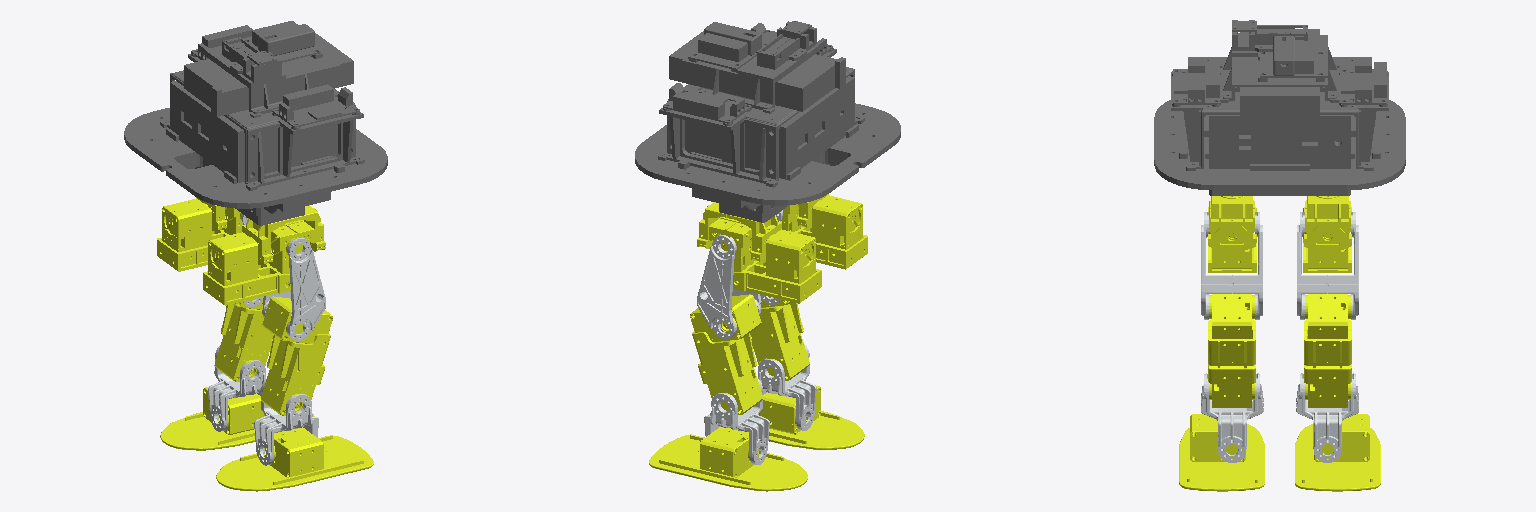
The robot description file, URDF, robot "exhx5_w_b_16":
<?xml version="1.0" encoding="utf-8"?>
<!-- This URDF was automatically created by SolidWorks to URDF Exporter! Originally created by [author] ([email redacted]) 
     Commit Version: 1.5.1-0-g916b5db  Build Version: 1.5.7152.31018
     For more information, please see http://wiki.ros.org/sw_urdf_exporter -->
<robot
  name="exhx5_w_b_16">
  <link
    name="body_link">
    <inertial>
      <origin
        xyz="0.00043545 0.00025536 0.10071"
        rpy="0 0 0" />
      <mass
        value="1.8238" />
      <inertia
        ixx="0.0025905"
        ixy="-5.6852E-06"
        ixz="-1.3106E-05"
        iyy="0.0024595"
        iyz="-1.261E-06"
        izz="0.0046407" />
    </inertial>
    <visual>
      <origin
        xyz="0 0 0"
        rpy="0 0 0" />
      <geometry>
        <mesh
          filename="../meshes/body_link.STL" />
      </geometry>
      <material
        name="">
        <color
          rgba="0.49804 0.49804 0.49804 1" />
      </material>
    </visual>
    <collision>
      <origin
        xyz="0 0 0"
        rpy="0 0 0" />
      <geometry>
        <mesh
          filename="../meshes/body_link.STL" />
      </geometry>
    </collision>
  </link>

  <link
    name="imu_link">
    <inertial>
      <origin
        xyz="-0.008387 1.336E-17 -0.0069463"
        rpy="0 0 0" />
      <mass
        value="0.0062931" />
      <inertia
        ixx="3.2242E-07"
        ixy="3.3527E-22"
        ixz="-6.9193E-08"
        iyy="9.2229E-07"
        iyz="-8.0392E-22"
        izz="1.1018E-06" />
    </inertial>
    <visual>
      <origin
        xyz="0 0 0"
        rpy="0 0 0" />
      <geometry>
        <mesh
          filename="../meshes/imu_link.STL" />
      </geometry>
      <material
        name="">
        <color
          rgba="0.79216 0.81961 0.93333 1" />
      </material>
    </visual>
    <collision>
      <origin
        xyz="0 0 0"
        rpy="0 0 0" />
      <geometry>
        <mesh
          filename="../meshes/imu_link.STL" />
      </geometry>
    </collision>
  </link>
  <joint
    name="imu"
    type="fixed">
    <origin
      xyz="0 0 0.0492"
      rpy="0 0 0" />
    <parent
      link="body_link" />
    <child
      link="imu_link" />
    <axis
      xyz="0 0 0" />
    <limit
      lower="-3.14"
      upper="3.14"
      effort="4"
      velocity="4" />
  </joint>
  <link
    name="l_hip_g_link">
    <inertial>
      <origin
        xyz="-0.0043797 -8.6604E-08 0.011813"
        rpy="0 0 0" />
      <mass
        value="0.061008" />
      <inertia
        ixx="1.167E-05"
        ixy="7.1767E-11"
        ixz="9.1442E-09"
        iyy="2.2342E-05"
        iyz="2.5177E-11"
        izz="2.4892E-05" />
    </inertial>
    <visual>
      <origin
        xyz="0 0 0"
        rpy="0 0 0" />
      <geometry>
        <mesh
          filename="../meshes/l_hip_g_link.STL" />
      </geometry>
      <material
        name="">
        <color
          rgba="0.9451 1 0.18431 1" />
      </material>
    </visual>
    <collision>
      <origin
        xyz="0 0 0"
        rpy="0 0 0" />
      <geometry>
        <mesh
          filename="../meshes/l_hip_g_link.STL" />
      </geometry>
    </collision>
  </link>
  <joint
    name="l_hip_g"
    type="fixed">
    <origin
      xyz=".003 0.04 0"
      rpy="0 0 0" />
    <parent
      link="body_link" />
    <child
      link="l_hip_g_link" />
    <axis
      xyz="0 0 0" />
  </joint>
  <link
    name="l_hip_roll_link">
    <inertial>
      <origin
        xyz="0.013831 0.00033457 0.025453"
        rpy="0 0 0" />
      <mass
        value="0.2969" />
      <inertia
        ixx="7.8136E-05"
        ixy="7.265E-07"
        ixz="-6.9809E-08"
        iyy="9.2183E-05"
        iyz="-5.6881E-11"
        izz="7.1034E-05" />
    </inertial>
    <visual>
      <origin
        xyz="0 0 0"
        rpy="0 0 0" />
      <geometry>
        <mesh
          filename="../meshes/l_hip_roll_link.STL" />
      </geometry>
      <material
        name="">
        <color
          rgba="0.9451 1 0.18431 1" />
      </material>
    </visual>
    <collision>
      <origin
        xyz="0 0 0"
        rpy="0 0 0" />
      <geometry>
        <mesh
          filename="../meshes/l_hip_roll_link.STL" />
      </geometry>
    </collision>
  </link>
  <joint
    name="l_hip_roll"
    type="revolute">
    <origin
      xyz="0 0 0"
      rpy="3.1416 1.5708 0" />
    <parent
      link="l_hip_g_link" />
    <child
      link="l_hip_roll_link" />
    <axis
      xyz="0 0 1" />
    <limit
      lower="-3.14"
      upper="3.14"
      effort="4"
      velocity="4" />
  </joint>
  <link
    name="l_hip_pitch_link">
    <inertial>
      <origin
        xyz="0.041225 -0.007321 -5.0713E-08"
        rpy="0 0 0" />
      <mass
        value="0.051592" />
      <inertia
        ixx="2.7959E-05"
        ixy="2.0752E-06"
        ixz="-8.0934E-11"
        iyy="4.8156E-05"
        iyz="3.6317E-11"
        izz="2.9604E-05" />
    </inertial>
    <visual>
      <origin
        xyz="0 0 0"
        rpy="0 0 0" />
      <geometry>
        <mesh
          filename="../meshes/l_hip_pitch_link.STL" />
      </geometry>
      <material
        name="">
        <color
          rgba="0.89804 0.91765 0.92941 1" />
      </material>
    </visual>
    <collision>
      <origin
        xyz="0 0 0"
        rpy="0 0 0" />
      <geometry>
        <mesh
          filename="../meshes/l_hip_pitch_link.STL" />
      </geometry>
    </collision>
  </link>
  <joint
    name="l_hip_pitch"
    type="revolute">
    <origin
      xyz="0 0 0"
      rpy="1.5708 0 0" />
    <parent
      link="l_hip_roll_link" />
    <child
      link="l_hip_pitch_link" />
    <axis
      xyz="0 0 1" />
    <limit
      lower="-3.14"
      upper="3.14"
      effort="4"
      velocity="4" />
  </joint>
  <link
    name="l_knee_link">
    <inertial>
      <origin
        xyz="0.033756 -0.0084189 -6.6115E-09"
        rpy="0 0 0" />
      <mass
        value="0.28878" />
      <inertia
        ixx="6.6724E-05"
        ixy="7.5004E-07"
        ixz="-8.4578E-07"
        iyy="6.5699E-05"
        iyz="4.1085E-07"
        izz="7.0381E-05" />
    </inertial>
    <visual>
      <origin
        xyz="0 0 0"
        rpy="0 0 0" />
      <geometry>
        <mesh
          filename="../meshes/l_knee_link.STL" />
      </geometry>
      <material
        name="">
        <color
          rgba="0.9451 1 0.18431 1" />
      </material>
    </visual>
    <collision>
      <origin
        xyz="0 0 0"
        rpy="0 0 0" />
      <geometry>
        <mesh
          filename="../meshes/l_knee_link.STL" />
      </geometry>
    </collision>
  </link>
  <joint
    name="l_knee"
    type="revolute">
    <origin
      xyz="0.075954 0 0"
      rpy="0 0 0" />
    <parent
      link="l_hip_pitch_link" />
    <child
      link="l_knee_link" />
    <axis
      xyz="0 0 1" />
    <limit
      lower="-3.14"
      upper="3.14"
      effort="4"
      velocity="4" />
  </joint>
  <link
    name="l_ank_pitch_link">
    <inertial>
      <origin
        xyz="0.022786 -7.3909E-09 -7.1981E-06"
        rpy="0 0 0" />
      <mass
        value="0.044772" />
      <inertia
        ixx="1.777E-05"
        ixy="8.555E-14"
        ixz="-3.3713E-09"
        iyy="1.7119E-05"
        iyz="1.7593E-11"
        izz="1.8661E-05" />
    </inertial>
    <visual>
      <origin
        xyz="0 0 0"
        rpy="0 0 0" />
      <geometry>
        <mesh
          filename="../meshes/l_ank_pitch_link.STL" />
      </geometry>
      <material
        name="">
        <color
          rgba="0.89804 0.91765 0.92941 1" />
      </material>
    </visual>
    <collision>
      <origin
        xyz="0 0 0"
        rpy="0 0 0" />
      <geometry>
        <mesh
          filename="../meshes/l_ank_pitch_link.STL" />
      </geometry>
    </collision>
  </link>
  <joint
    name="l_ank_pitch"
    type="revolute">
    <origin
      xyz="0.074602 0 0"
      rpy="3.1416 0 0" />
    <parent
      link="l_knee_link" />
    <child
      link="l_ank_pitch_link" />
    <axis
      xyz="0 0 1" />
    <limit
      lower="-3.14"
      upper="3.14"
      effort="4"
      velocity="4" />
  </joint>
  <link
    name="l_ank_roll_link">
    <inertial>
      <origin
        xyz="0.0047069 0.010728 0.0015299"
        rpy="0 0 0" />
      <mass
        value="0.16774" />
      <inertia
        ixx="0.00012039"
        ixy="-3.7428E-09"
        ixz="4.4069E-08"
        iyy="8.7735E-05"
        iyz="7.0469E-07"
        izz="4.7866E-05" />
    </inertial>
    <visual>
      <origin
        xyz="0 0 0"
        rpy="0 0 0" />
      <geometry>
        <mesh
          filename="../meshes/l_ank_roll_link.STL" />
      </geometry>
      <material
        name="">
        <color
          rgba="0.9451 1 0.18431 1" />
      </material>
    </visual>
    <collision>
      <origin
        xyz="0 0 0"
        rpy="0 0 0" />
      <geometry>
        <mesh
          filename="../meshes/l_ank_roll_link.STL" />
      </geometry>
    </collision>
  </link>
  <joint
    name="l_ank_roll"
    type="revolute">
    <origin
      xyz="0.0465 0 0"
      rpy="-1.5708 0 0" />
    <parent
      link="l_ank_pitch_link" />
    <child
      link="l_ank_roll_link" />
    <axis
      xyz="0 0 1" />
    <limit
      lower="-3.14"
      upper="3.14"
      effort="4"
      velocity="4" />
  </joint>
  <link
    name="r_hip_g_link">
    <inertial>
      <origin
        xyz="-0.0043797 -8.6604E-08 0.011813"
        rpy="0 0 0" />
      <mass
        value="0.061008" />
      <inertia
        ixx="1.167E-05"
        ixy="7.1767E-11"
        ixz="9.1442E-09"
        iyy="2.2342E-05"
        iyz="2.5177E-11"
        izz="2.4892E-05" />
    </inertial>
    <visual>
      <origin
        xyz="0 0 0"
        rpy="0 0 0" />
      <geometry>
        <mesh
          filename="../meshes/r_hip_g_link.STL" />
      </geometry>
      <material
        name="">
        <color
          rgba="0.9451 1 0.18431 1" />
      </material>
    </visual>
    <collision>
      <origin
        xyz="0 0 0"
        rpy="0 0 0" />
      <geometry>
        <mesh
          filename="../meshes/r_hip_g_link.STL" />
      </geometry>
    </collision>
  </link>
  <joint
    name="r_hip_g"
    type="fixed">
    <origin
      xyz=".003 -.04 0"
      rpy="0 0 0" />
    <parent
      link="body_link" />
    <child
      link="r_hip_g_link" />
    <axis
      xyz="0 0 0" />
  </joint>
  <link
    name="r_hip_roll_link">
    <inertial>
      <origin
        xyz="0.013831 0.00033457 0.025453"
        rpy="0 0 0" />
      <mass
        value="0.2969" />
      <inertia
        ixx="7.8136E-05"
        ixy="7.265E-07"
        ixz="-6.9809E-08"
        iyy="9.2183E-05"
        iyz="-5.6881E-11"
        izz="7.1034E-05" />
    </inertial>
    <visual>
      <origin
        xyz="0 0 0"
        rpy="0 0 0" />
      <geometry>
        <mesh
          filename="../meshes/r_hip_roll_link.STL" />
      </geometry>
      <material
        name="">
        <color
          rgba="0.9451 1 0.18431 1" />
      </material>
    </visual>
    <collision>
      <origin
        xyz="0 0 0"
        rpy="0 0 0" />
      <geometry>
        <mesh
          filename="../meshes/r_hip_roll_link.STL" />
      </geometry>
    </collision>
  </link>
  <joint
    name="r_hip_roll"
    type="revolute">
    <origin
      xyz="0 0 0"
      rpy="3.1416 1.5708 0" />
    <parent
      link="r_hip_g_link" />
    <child
      link="r_hip_roll_link" />
    <axis
      xyz="0 0 1" />
    <limit
      lower="-3.14"
      upper="3.14"
      effort="4"
      velocity="4" />
  </joint>
  <link
    name="r_hip_pitch_link">
    <inertial>
      <origin
        xyz="0.041225 0.007321 5.0713E-08"
        rpy="0 0 0" />
      <mass
        value="0.051592" />
      <inertia
        ixx="2.7959E-05"
        ixy="-2.0752E-06"
        ixz="8.0934E-11"
        iyy="4.8156E-05"
        iyz="3.6317E-11"
        izz="2.9604E-05" />
    </inertial>
    <visual>
      <origin
        xyz="0 0 0"
        rpy="0 0 0" />
      <geometry>
        <mesh
          filename="../meshes/r_hip_pitch_link.STL" />
      </geometry>
      <material
        name="">
        <color
          rgba="0.89804 0.91765 0.92941 1" />
      </material>
    </visual>
    <collision>
      <origin
        xyz="0 0 0"
        rpy="0 0 0" />
      <geometry>
        <mesh
          filename="../meshes/r_hip_pitch_link.STL" />
      </geometry>
    </collision>
  </link>
  <joint
    name="r_hip_pitch"
    type="revolute">
    <origin
      xyz="0 0 0"
      rpy="-1.5708 0 0" />
    <parent
      link="r_hip_roll_link" />
    <child
      link="r_hip_pitch_link" />
    <axis
      xyz="0 0 1" />
    <limit
      lower="-3.14"
      upper="3.14"
      effort="4"
      velocity="4" />
  </joint>
  <link
    name="r_knee_link">
    <inertial>
      <origin
        xyz="0.033757 0.0084176 6.6115E-09"
        rpy="0 0 0" />
      <mass
        value="0.28878" />
      <inertia
        ixx="6.6724E-05"
        ixy="-7.5008E-07"
        ixz="8.458E-07"
        iyy="6.5699E-05"
        iyz="4.1081E-07"
        izz="7.0381E-05" />
    </inertial>
    <visual>
      <origin
        xyz="0 0 0"
        rpy="0 0 0" />
      <geometry>
        <mesh
          filename="../meshes/r_knee_link.STL" />
      </geometry>
      <material
        name="">
        <color
          rgba="0.9451 1 0.18431 1" />
      </material>
    </visual>
    <collision>
      <origin
        xyz="0 0 0"
        rpy="0 0 0" />
      <geometry>
        <mesh
          filename="../meshes/r_knee_link.STL" />
      </geometry>
    </collision>
  </link>
  <joint
    name="r_knee"
    type="revolute">
    <origin
      xyz="0.075954 0 0"
      rpy="0 0 0" />
    <parent
      link="r_hip_pitch_link" />
    <child
      link="r_knee_link" />
    <axis
      xyz="0 0 1" />
    <limit
      lower="-3.14"
      upper="3.14"
      effort="4"
      velocity="4" />
  </joint>
  <link
    name="r_ank_pitch_link">
    <inertial>
      <origin
        xyz="0.025786 -7.3887E-09 -7.1981E-06"
        rpy="0 0 0" />
      <mass
        value="0.044772" />
      <inertia
        ixx="1.777E-05"
        ixy="8.5434E-14"
        ixz="-3.3713E-09"
        iyy="1.7119E-05"
        iyz="1.7592E-11"
        izz="1.8661E-05" />
    </inertial>
    <visual>
      <origin
        xyz="0 0 0"
        rpy="0 0 0" />
      <geometry>
        <mesh
          filename="../meshes/r_ank_pitch_link.STL" />
      </geometry>
      <material
        name="">
        <color
          rgba="0.89804 0.91765 0.92941 1" />
      </material>
    </visual>
    <collision>
      <origin
        xyz="0 0 0"
        rpy="0 0 0" />
      <geometry>
        <mesh
          filename="../meshes/r_ank_pitch_link.STL" />
      </geometry>
    </collision>
  </link>
  <joint
    name="r_ank_pitch"
    type="revolute">
    <origin
      xyz="0.071602 0 0"
      rpy="3.1416 0 0" />
    <parent
      link="r_knee_link" />
    <child
      link="r_ank_pitch_link" />
    <axis
      xyz="0 0 1" />
    <limit
      lower="-3.14"
      upper="3.14"
      effort="4"
      velocity="4" />
  </joint>
  <link
    name="r_ank_roll_link">
    <inertial>
      <origin
        xyz="0.0077069 -0.010728 0.0015299"
        rpy="0 0 0" />
      <mass
        value="0.16774" />
      <inertia
        ixx="0.00012039"
        ixy="3.743E-09"
        ixz="4.407E-08"
        iyy="8.7735E-05"
        iyz="-7.0467E-07"
        izz="4.7866E-05" />
    </inertial>
    <visual>
      <origin
        xyz="0 0 0"
        rpy="0 0 0" />
      <geometry>
        <mesh
          filename="../meshes/r_ank_roll_link.STL" />
      </geometry>
      <material
        name="">
        <color
          rgba="0.9451 1 0.18431 1" />
      </material>
    </visual>
    <collision>
      <origin
        xyz="0 0 0"
        rpy="0 0 0" />
      <geometry>
        <mesh
          filename="../meshes/r_ank_roll_link.STL" />
      </geometry>
    </collision>
  </link>
  <joint
    name="r_ank_roll"
    type="revolute">
    <origin
      xyz="0.0465 0 0"
      rpy="1.5708 0 0" />
    <parent
      link="r_ank_pitch_link" />
    <child
      link="r_ank_roll_link" />
    <axis
      xyz="0 0 1" />
    <limit
      lower="-3.14"
      upper="3.14"
      effort="4"
      velocity="4" />
  </joint>
  <transmission name="r_hip_roll_tran">
    <type>transmission_interface/SimpleTransmission</type>
    <joint name="r_hip_roll">
      <hardwareInterface>hardware_interface/EffortJointInterface</hardwareInterface>
    </joint>
    <actuator name="r_hip_roll_motor">
      <hardwareInterface>hardware_interface/EffortJointInterface</hardwareInterface>
      <mechanicalReduction>1</mechanicalReduction>
    </actuator>
  </transmission>
  <transmission name="r_hip_pitch_tran">
    <type>transmission_interface/SimpleTransmission</type>
    <joint name="r_hip_pitch">
      <hardwareInterface>hardware_interface/EffortJointInterface</hardwareInterface>
    </joint>
    <actuator name="r_hip_pitch_motor">
      <hardwareInterface>hardware_interface/EffortJointInterface</hardwareInterface>
      <mechanicalReduction>1</mechanicalReduction>
    </actuator>
  </transmission>
  <transmission name="r_knee_tran">
    <type>transmission_interface/SimpleTransmission</type>
    <joint name="r_knee">
      <hardwareInterface>hardware_interface/EffortJointInterface</hardwareInterface>
    </joint>
    <actuator name="r_knee_motor">
      <hardwareInterface>hardware_interface/EffortJointInterface</hardwareInterface>
      <mechanicalReduction>1</mechanicalReduction>
    </actuator>
  </transmission>
  <transmission name="r_ank_pitch_tran">
    <type>transmission_interface/SimpleTransmission</type>
    <joint name="r_ank_pitch">
      <hardwareInterface>hardware_interface/EffortJointInterface</hardwareInterface>
    </joint>
    <actuator name="r_ank_pitch_motor">
      <hardwareInterface>hardware_interface/EffortJointInterface</hardwareInterface>
      <mechanicalReduction>1</mechanicalReduction>
    </actuator>
  </transmission>
  <transmission name="r_ank_roll_tran">
    <type>transmission_interface/SimpleTransmission</type>
    <joint name="r_ank_roll">
      <hardwareInterface>hardware_interface/EffortJointInterface</hardwareInterface>
    </joint>
    <actuator name="r_ank_roll_motor">
      <hardwareInterface>hardware_interface/EffortJointInterface</hardwareInterface>
      <mechanicalReduction>1</mechanicalReduction>
    </actuator>
  </transmission>
  <transmission name="l_hip_roll_tran">
    <type>transmission_interface/SimpleTransmission</type>
    <joint name="l_hip_roll">
      <hardwareInterface>hardware_interface/EffortJointInterface</hardwareInterface>
    </joint>
    <actuator name="l_hip_roll_motor">
      <hardwareInterface>hardware_interface/EffortJointInterface</hardwareInterface>
      <mechanicalReduction>1</mechanicalReduction>
    </actuator>
  </transmission>
  <transmission name="l_hip_pitch_tran">
    <type>transmission_interface/SimpleTransmission</type>
    <joint name="l_hip_pitch">
      <hardwareInterface>hardware_interface/EffortJointInterface</hardwareInterface>
    </joint>
    <actuator name="l_hip_pitch_motor">
      <hardwareInterface>hardware_interface/EffortJointInterface</hardwareInterface>
      <mechanicalReduction>1</mechanicalReduction>
    </actuator>
  </transmission>
  <transmission name="l_knee_tran">
    <type>transmission_interface/SimpleTransmission</type>
    <joint name="l_knee">
      <hardwareInterface>hardware_interface/EffortJointInterface</hardwareInterface>
    </joint>
    <actuator name="l_knee_motor">
      <hardwareInterface>hardware_interface/EffortJointInterface</hardwareInterface>
      <mechanicalReduction>1</mechanicalReduction>
    </actuator>
  </transmission>
  <transmission name="l_ank_pitch_tran">
    <type>transmission_interface/SimpleTransmission</type>
    <joint name="l_ank_pitch">
      <hardwareInterface>hardware_interface/EffortJointInterface</hardwareInterface>
    </joint>
    <actuator name="l_ank_pitch_motor">
      <hardwareInterface>hardware_interface/EffortJointInterface</hardwareInterface>
      <mechanicalReduction>1</mechanicalReduction>
    </actuator>
  </transmission>
  <transmission name="l_ank_roll_tran">
    <type>transmission_interface/SimpleTransmission</type>
    <joint name="l_ank_roll">
      <hardwareInterface>hardware_interface/EffortJointInterface</hardwareInterface>
    </joint>
    <actuator name="l_ank_roll_motor">
      <hardwareInterface>hardware_interface/EffortJointInterface</hardwareInterface>
      <mechanicalReduction>1</mechanicalReduction>
    </actuator>
  </transmission>
</robot>

--- What the picture shows (computed from the rendered views, not written in the file) ---
Views: 3 orthographic renders of the robot side by side, from view 1: azimuth 30°, elevation 25°; view 2: azimuth 150°, elevation 25°; view 3: azimuth 270°, elevation 25°.
Robot: exhx5_w_b_16 — 14 links, 13 joints (10 revolute, 3 fixed); root link body_link; default pose: every joint at zero.
Visible links, largest first — view 1: body_link, r_ank_roll_link, r_hip_roll_link, r_knee_link, l_hip_roll_link, l_ank_roll_link, l_knee_link, r_hip_pitch_link, r_ank_pitch_link, l_ank_pitch_link, r_hip_g_link; view 2: body_link, l_ank_roll_link, l_hip_roll_link, l_knee_link, r_hip_roll_link, r_ank_roll_link, r_knee_link, l_hip_pitch_link, l_ank_pitch_link, r_ank_pitch_link, l_hip_g_link; view 3: body_link, l_knee_link, r_knee_link, l_ank_roll_link, r_ank_roll_link, l_hip_pitch_link, r_hip_pitch_link, l_hip_g_link, r_hip_g_link, r_ank_pitch_link, l_ank_pitch_link, l_hip_roll_link (+1 smaller).
Link boxes in pixels (x1,y1,x2,y2): body_link: (124, 21, 387, 225); r_ank_roll_link: (216, 427, 373, 491); r_hip_roll_link: (203, 220, 314, 305); r_knee_link: (261, 296, 332, 415); l_hip_roll_link: (157, 198, 242, 271); l_ank_roll_link: (160, 387, 314, 450); l_knee_link: (214, 298, 273, 381); r_hip_pitch_link: (262, 238, 325, 340); r_ank_pitch_link: (254, 380, 318, 465); l_ank_pitch_link: (208, 346, 265, 431); r_hip_g_link: (242, 205, 325, 264); body_link: (635, 21, 900, 222); l_ank_roll_link: (649, 427, 807, 491); l_hip_roll_link: (709, 217, 821, 303); l_knee_link: (690, 294, 762, 414); r_hip_roll_link: (781, 195, 867, 269); r_ank_roll_link: (708, 385, 864, 449); r_knee_link: (750, 296, 809, 380); l_hip_pitch_link: (697, 234, 761, 338); l_ank_pitch_link: (704, 378, 769, 464); r_ank_pitch_link: (758, 344, 816, 430); l_hip_g_link: (697, 202, 781, 262); body_link: (1154, 20, 1405, 195); l_knee_link: (1304, 294, 1351, 407); r_knee_link: (1208, 294, 1255, 407); l_ank_roll_link: (1295, 414, 1380, 491); r_ank_roll_link: (1179, 414, 1264, 491); l_hip_pitch_link: (1297, 212, 1358, 319); r_hip_pitch_link: (1201, 212, 1262, 319); l_hip_g_link: (1303, 196, 1351, 247); r_hip_g_link: (1208, 196, 1256, 247); r_ank_pitch_link: (1201, 373, 1263, 462); l_ank_pitch_link: (1296, 373, 1358, 462); l_hip_roll_link: (1303, 200, 1351, 272).
Bounding box of the posed robot: 0.185 × 0.21 × 0.3893 m (x, y, z).
Meshes: 14 distinct files referenced, 14 mesh visuals loaded (14 binary STL).